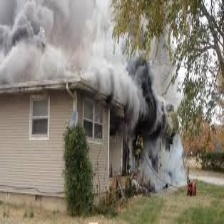smoke: (1, 2, 177, 113)
